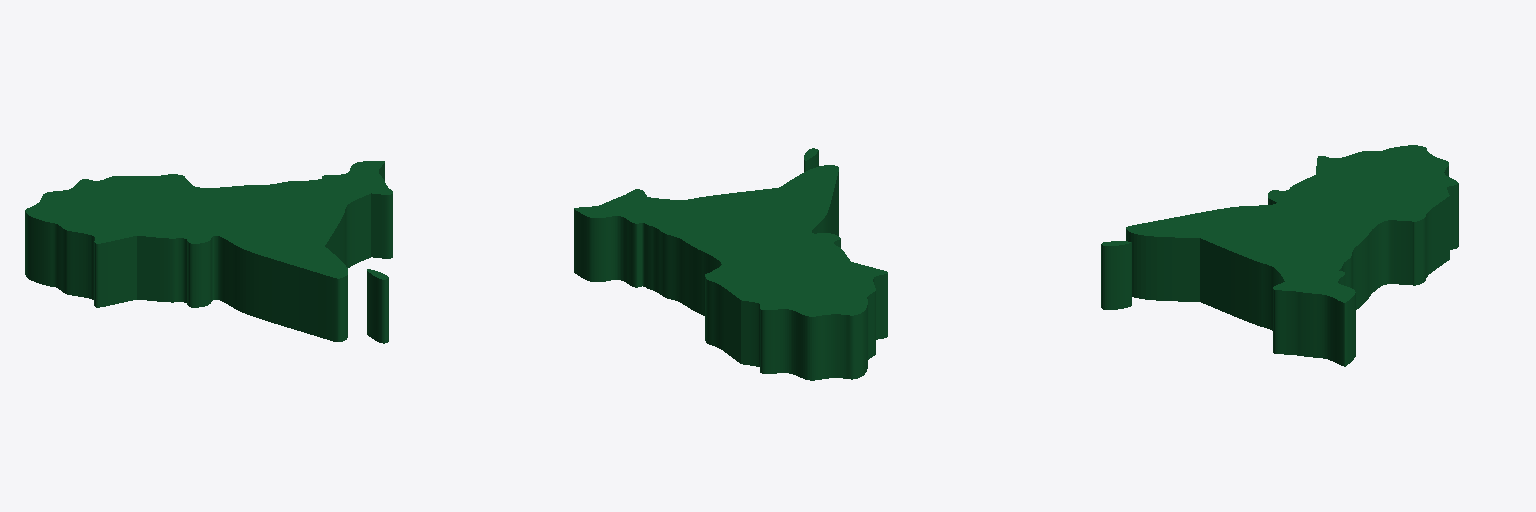
Rendered from Asia_03.obj.
3 views of the same model, side by side, from view 1: azimuth 30°, elevation 25°; view 2: azimuth 150°, elevation 25°; view 3: azimuth 270°, elevation 25° (orthographic).
Visible parts, largest first — view 1: Asia_03_path4272; view 2: Asia_03_path4272; view 3: Asia_03_path4272.
Part boxes in pixels (x1,y1,x2,y2): Asia_03_path4272: (25, 161, 392, 343); Asia_03_path4272: (574, 148, 887, 380); Asia_03_path4272: (1101, 145, 1458, 366).
Bounding box in the file's own units: 0.529 × 0.1 × 0.5065.